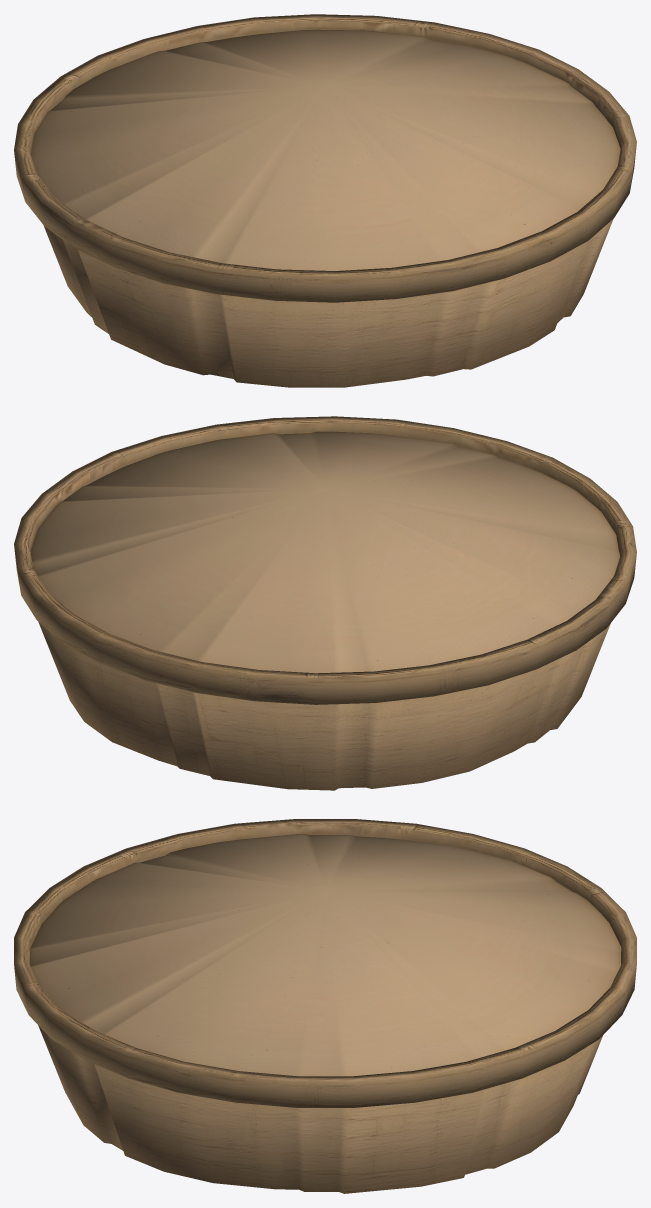
File: egg-basket.glb
The picture shows the model from 3 angles, top to bottom: view 1: azimuth 30°, elevation 25°; view 2: azimuth 150°, elevation 25°; view 3: azimuth 270°, elevation 25°; orthographic projection.
Visible parts, largest first — view 1: tripo_node_0a8afa35-a1ee-4580-9ace-5715c47dcfb6; view 2: tripo_node_0a8afa35-a1ee-4580-9ace-5715c47dcfb6; view 3: tripo_node_0a8afa35-a1ee-4580-9ace-5715c47dcfb6.
Boxes of the visible parts, box(x1,y1,x2,y2) form: tripo_node_0a8afa35-a1ee-4580-9ace-5715c47dcfb6: box(14, 14, 636, 387); tripo_node_0a8afa35-a1ee-4580-9ace-5715c47dcfb6: box(14, 416, 636, 790); tripo_node_0a8afa35-a1ee-4580-9ace-5715c47dcfb6: box(14, 819, 636, 1193).
Bounding box in the file's own units: 0.998 × 0.3418 × 0.998.
Materials: 1 (1 with a texture image).
